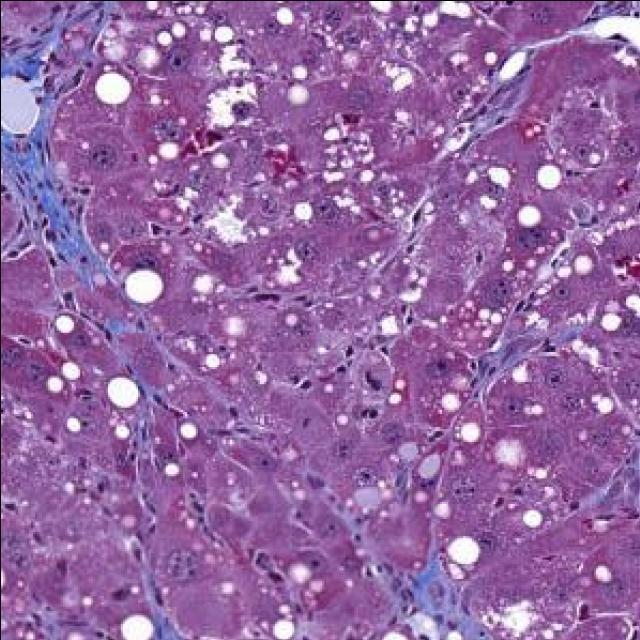fibrosis: (2, 130, 112, 287), (412, 555, 492, 640), (1, 25, 82, 102)
